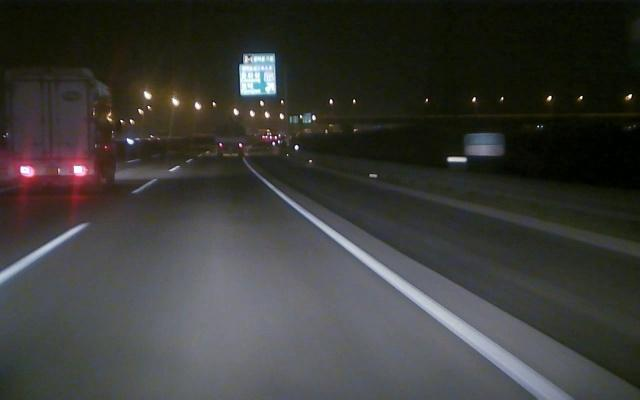lane: (265, 182, 574, 399), (1, 204, 107, 284), (1, 224, 86, 284)
